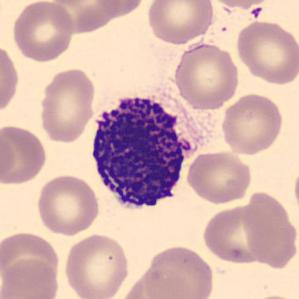Basophil: (85, 86, 203, 220)
Platelets: (250, 7, 264, 19)
RBC: (198, 198, 293, 273), (171, 41, 242, 110), (62, 231, 131, 299), (37, 66, 97, 144), (34, 172, 101, 237), (234, 18, 298, 86), (219, 91, 285, 156), (9, 0, 76, 64), (142, 243, 216, 299), (184, 149, 254, 205), (0, 228, 62, 285), (145, 0, 215, 45), (0, 122, 49, 186), (0, 256, 62, 299), (45, 0, 118, 34), (0, 41, 21, 118), (0, 122, 17, 184), (93, 0, 148, 17), (204, 0, 274, 8), (292, 160, 299, 221), (246, 293, 298, 299)
